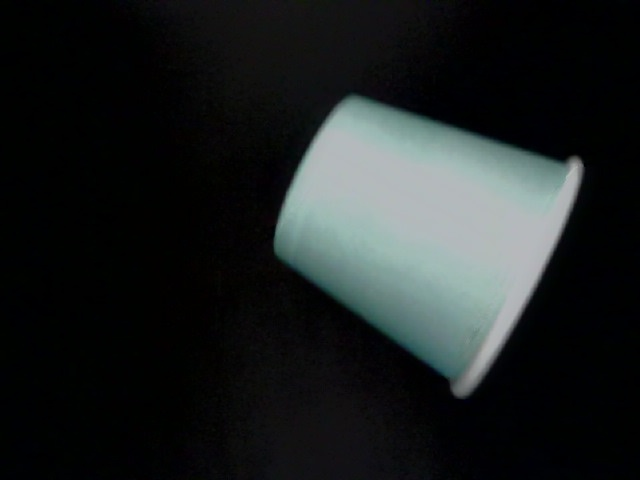KHSLJ: (138, 1, 637, 273)
